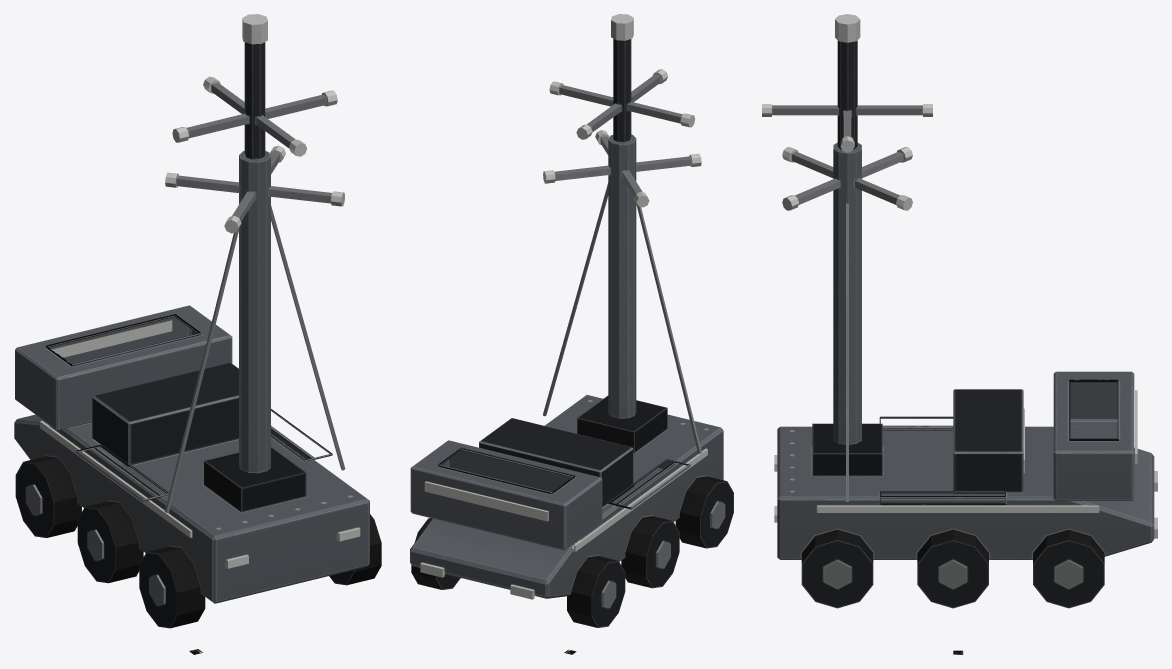
Rendered from chs_shroud.fbx.
3 renders of one model, left to right at view 1: azimuth 30°, elevation 25°; view 2: azimuth 150°, elevation 25°; view 3: azimuth 270°, elevation 25°, orthographic. The views are drawn at different scales.
Visible parts, largest first — view 1: base_bar, array_bar, base_glow_running_bar, array_glow_power_bar, array_glow_running_bar; view 2: base_bar, array_bar, base_glow_running_bar, array_glow_power_bar, array_glow_running_bar, base_glow_head_bar; view 3: base_bar, array_bar, base_glow_running_bar, array_glow_power_bar, array_glow_running_bar.
Part boxes in pixels (box(x1,y1,x2,y2)): base_bar: box(14, 205, 381, 628); array_bar: box(176, 42, 332, 473); base_glow_running_bar: box(40, 421, 360, 568); array_glow_power_bar: box(165, 76, 344, 233); array_glow_running_bar: box(242, 14, 267, 44); base_bar: box(410, 183, 733, 627); array_bar: box(554, 39, 691, 418); base_glow_running_bar: box(424, 448, 707, 551); array_glow_power_bar: box(543, 69, 701, 207); array_glow_running_bar: box(611, 14, 633, 40); base_glow_head_bar: box(420, 562, 534, 599); base_bar: box(777, 203, 1154, 608); array_bar: box(772, 40, 922, 444); base_glow_running_bar: box(774, 390, 1137, 522); array_glow_power_bar: box(762, 104, 932, 210); array_glow_running_bar: box(835, 14, 860, 42).
Bounding box in the file's own units: 448 × 1390 × 787.
2 materials, 2 textured.
